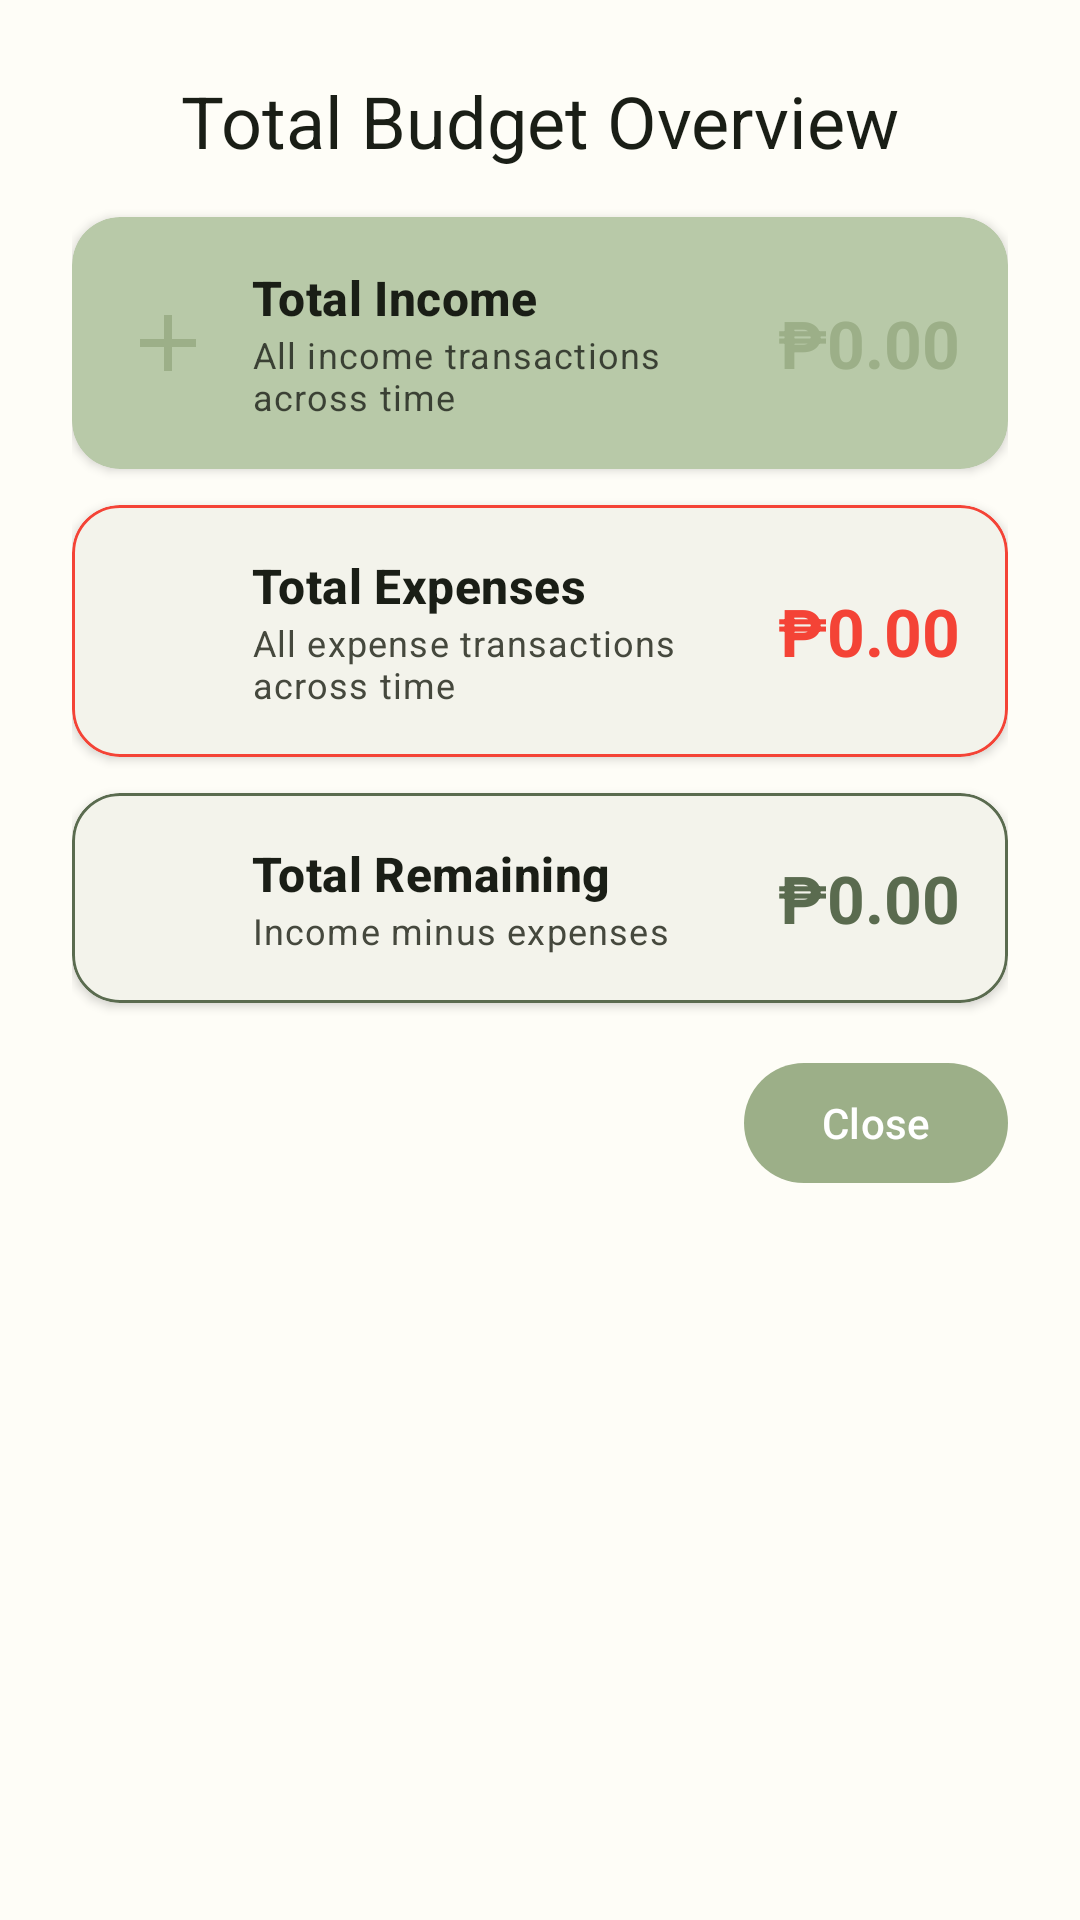

Where to tap for icons on this 1080 x 1920 app screen, as (x,y):
add: (168,343)
